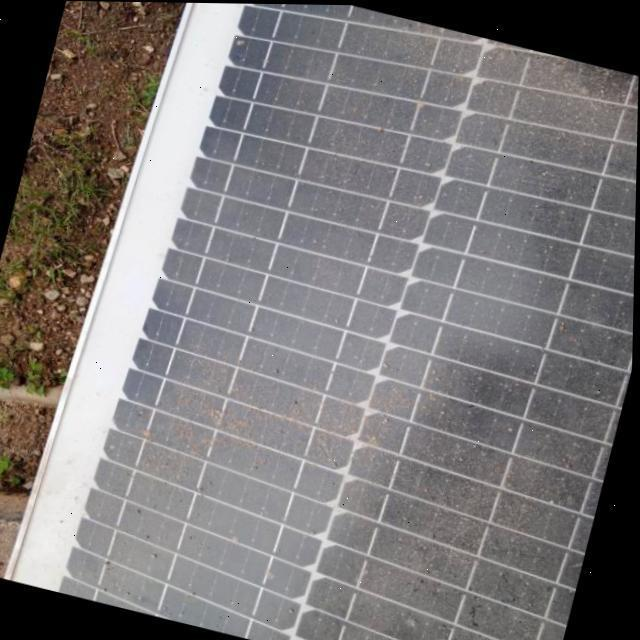Surface Contaminant: (76, 3, 639, 640)
